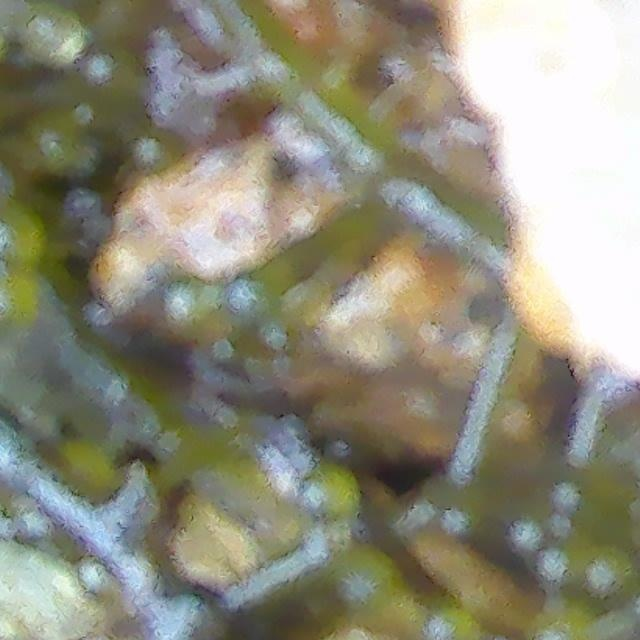SeaGrape: (298, 466, 356, 525), (0, 208, 46, 270), (0, 268, 42, 333)
